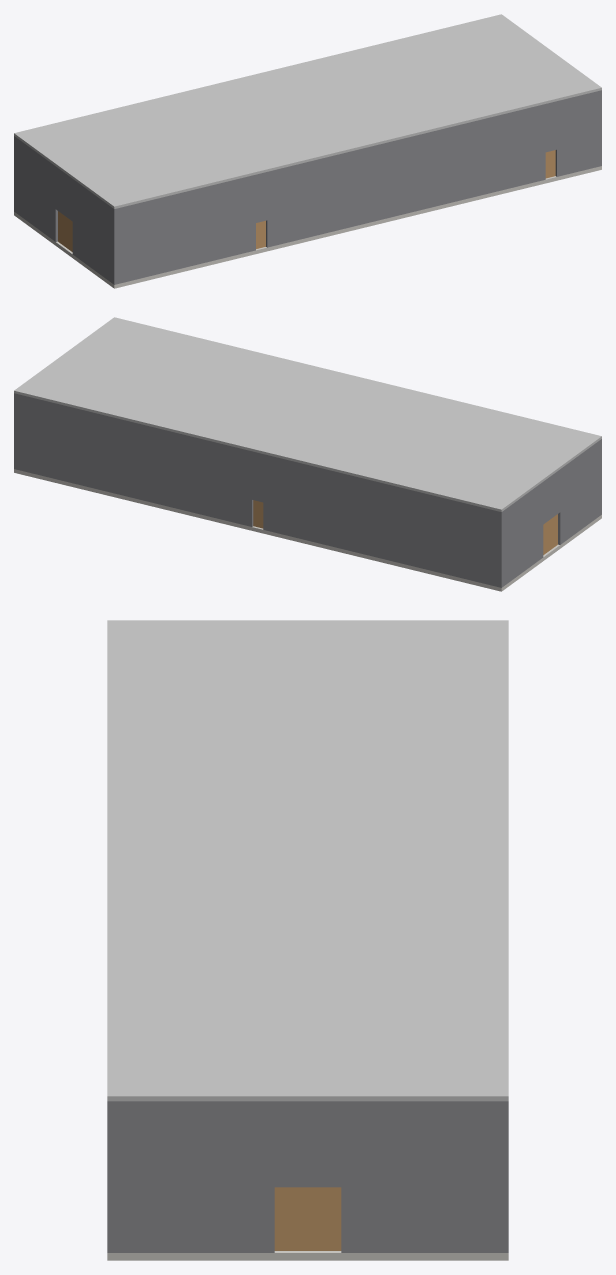
Rendered from wing_entertainment.glb.
3 renders of one model, top to bottom at view 1: azimuth 30°, elevation 25°; view 2: azimuth 150°, elevation 25°; view 3: azimuth 270°, elevation 25°, orthographic. The views are drawn at different scales.
Parts seen in each view (by area): view 1: Wing_Ceiling, Wing_Wall_S_3, Wing_Wall_S_1, Wing_Wall_S_5, Wing_Wall_W_1, Wing_Wall_W_3, Wing_Floor, Wing_Wall_W_2, Wing_Wall_S_4, Wing_Wall_S_2; view 2: Wing_Ceiling, Wing_Wall_N_1, Wing_Wall_N_3, Wing_Wall_W_3, Wing_Wall_W_1, Wing_Floor, Wing_Wall_W_2, Wing_Wall_N_2; view 3: Wing_Ceiling, Wing_Wall_E_1, Wing_Wall_E_3, Wing_Wall_E_2, Wing_Floor, DoorLeaf_food_court_A, DoorLeaf_food_court_B, Wing_Wall_N_3, Wing_Wall_S_5.
Boxes of the visible parts, x1=… form: Wing_Ceiling: x1=14, y1=14, x2=601, y2=208; Wing_Wall_S_3: x1=266, y1=104, x2=545, y2=247; Wing_Wall_S_1: x1=113, y1=174, x2=255, y2=284; Wing_Wall_S_5: x1=555, y1=90, x2=601, y2=176; Wing_Wall_W_1: x1=15, y1=137, x2=57, y2=241; Wing_Wall_W_3: x1=72, y1=179, x2=112, y2=283; Wing_Floor: x1=14, y1=166, x2=601, y2=288; Wing_Wall_W_2: x1=55, y1=166, x2=72, y2=221; Wing_Wall_S_4: x1=545, y1=101, x2=556, y2=152; Wing_Wall_S_2: x1=256, y1=172, x2=267, y2=222; Wing_Ceiling: x1=14, y1=317, x2=601, y2=511; Wing_Wall_N_1: x1=263, y1=454, x2=502, y2=587; Wing_Wall_N_3: x1=14, y1=393, x2=253, y2=526; Wing_Wall_W_3: x1=558, y1=440, x2=600, y2=544; Wing_Wall_W_1: x1=503, y1=482, x2=543, y2=586; Wing_Floor: x1=14, y1=469, x2=601, y2=591; Wing_Wall_W_2: x1=543, y1=469, x2=560, y2=524; Wing_Wall_N_2: x1=252, y1=451, x2=263, y2=502; Wing_Ceiling: x1=107, y1=620, x2=508, y2=1101; Wing_Wall_E_1: x1=341, y1=1101, x2=502, y2=1252; Wing_Wall_E_3: x1=113, y1=1101, x2=274, y2=1252; Wing_Wall_E_2: x1=274, y1=1101, x2=341, y2=1187; Wing_Floor: x1=107, y1=1251, x2=508, y2=1260; DoorLeaf_food_court_A: x1=308, y1=1187, x2=341, y2=1250; DoorLeaf_food_court_B: x1=274, y1=1187, x2=307, y2=1250; Wing_Wall_N_3: x1=503, y1=1101, x2=508, y2=1252; Wing_Wall_S_5: x1=107, y1=1101, x2=112, y2=1252.
Bounding box in the file's own units: 40.4 × 6.5 × 14.4.
